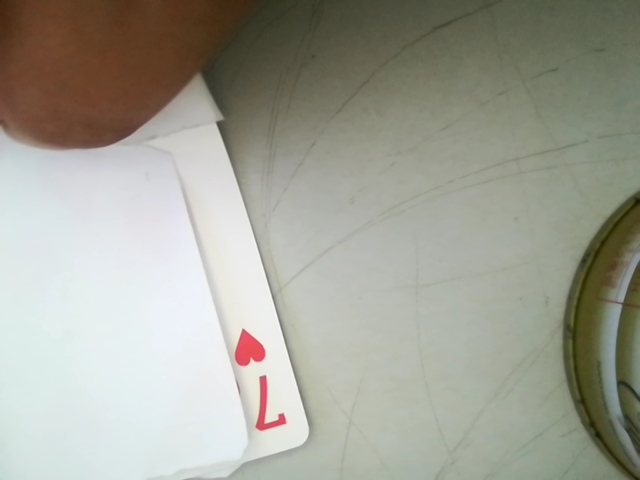hx 7: (215, 314, 290, 444)
